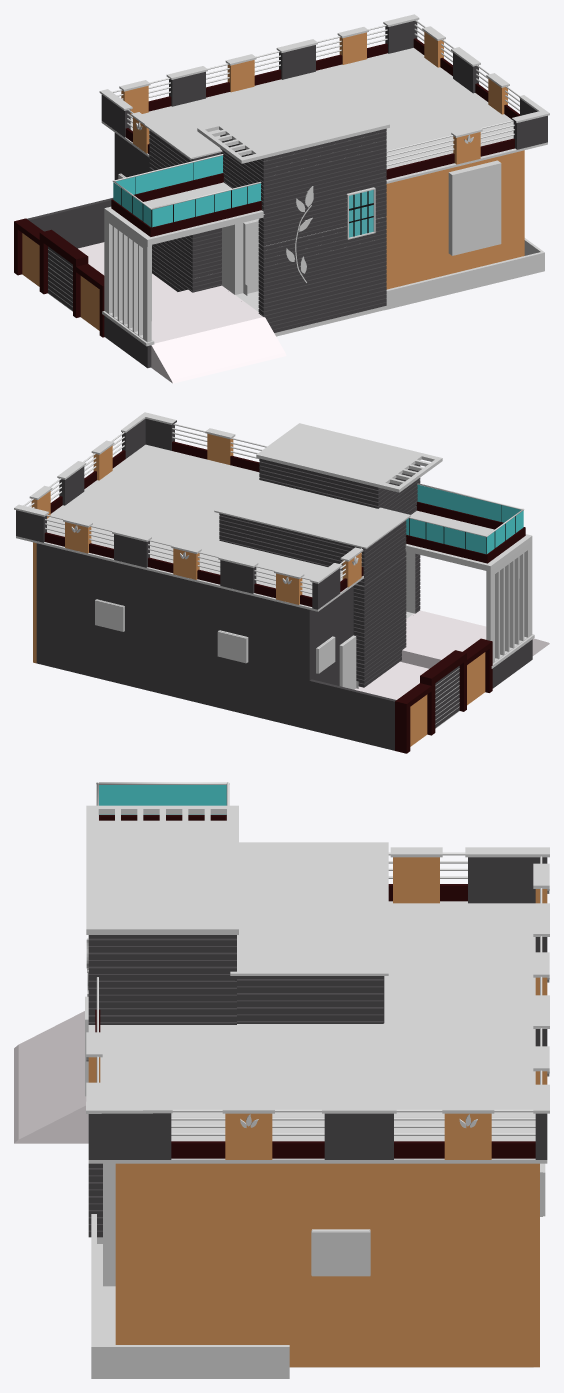
Rendered from BuildingArch.glb.
3 views of the same model, one above another, from view 1: azimuth 30°, elevation 25°; view 2: azimuth 150°, elevation 25°; view 3: azimuth 270°, elevation 25° (orthographic). The views are drawn at different scales.
Visible parts, largest first — view 1: Cube, Cube.003, Cube.005, Cube.004, Cube.002, Cube.012, Cube.009, CTRL_Hole.001, Cube.013, Cube.007, Plane, Cube.008 (+14 smaller); view 2: Cube.004, Cube.012, Cube.005, Cube.003, Cube, Cube.002, Cube.009, Cube.013, Cube.006, Cube.019, Cylinder.004, Cube.001 (+13 smaller); view 3: Cube.004, Cube.005, Cube, Cube.012, Cube.003, Cube.007, Cube.013, Cube.006, Cube.001, CTRL_Hole.006, Cube.017, Cube.018 (+4 smaller).
Boxes of the visible parts, x1,y1,x2,y2 form: Cube: [197, 92, 389, 336]; Cube.003: [78, 38, 519, 383]; Cube.005: [101, 48, 547, 183]; Cube.004: [27, 133, 524, 289]; Cube.002: [102, 182, 313, 368]; Cube.012: [144, 86, 317, 292]; Cube.009: [14, 218, 104, 337]; CTRL_Hole.001: [448, 160, 501, 255]; Cube.013: [166, 14, 480, 106]; Cube.007: [384, 238, 544, 310]; Plane: [221, 220, 259, 311]; Cube.008: [121, 163, 375, 239]; Cube.004: [33, 542, 396, 750]; Cube.012: [214, 478, 410, 687]; Cube.005: [16, 444, 363, 611]; Cube.003: [44, 441, 549, 699]; Cube: [256, 423, 442, 613]; Cube.002: [405, 510, 534, 688]; Cube.009: [395, 638, 492, 753]; Cube.013: [14, 461, 258, 593]; Cube.006: [121, 412, 176, 458]; Cube.019: [435, 666, 459, 728]; Cylinder.004: [45, 514, 312, 593]; Cube.001: [310, 563, 342, 609]; Cube.004: [115, 976, 539, 1367]; Cube.005: [88, 901, 547, 1163]; Cube: [86, 805, 533, 1367]; Cube.012: [230, 842, 388, 1023]; Cube.003: [14, 785, 535, 1158]; Cube.007: [91, 1214, 289, 1378]; Cube.013: [322, 903, 549, 1159]; Cube.006: [86, 1082, 172, 1159]; Cube.001: [465, 847, 549, 903]; CTRL_Hole.006: [312, 1229, 370, 1276]; Cube.017: [222, 1103, 274, 1159]; Cube.018: [442, 1103, 494, 1159].
Size of the model in its own units: 16.43 by 7.24 by 11.03.
